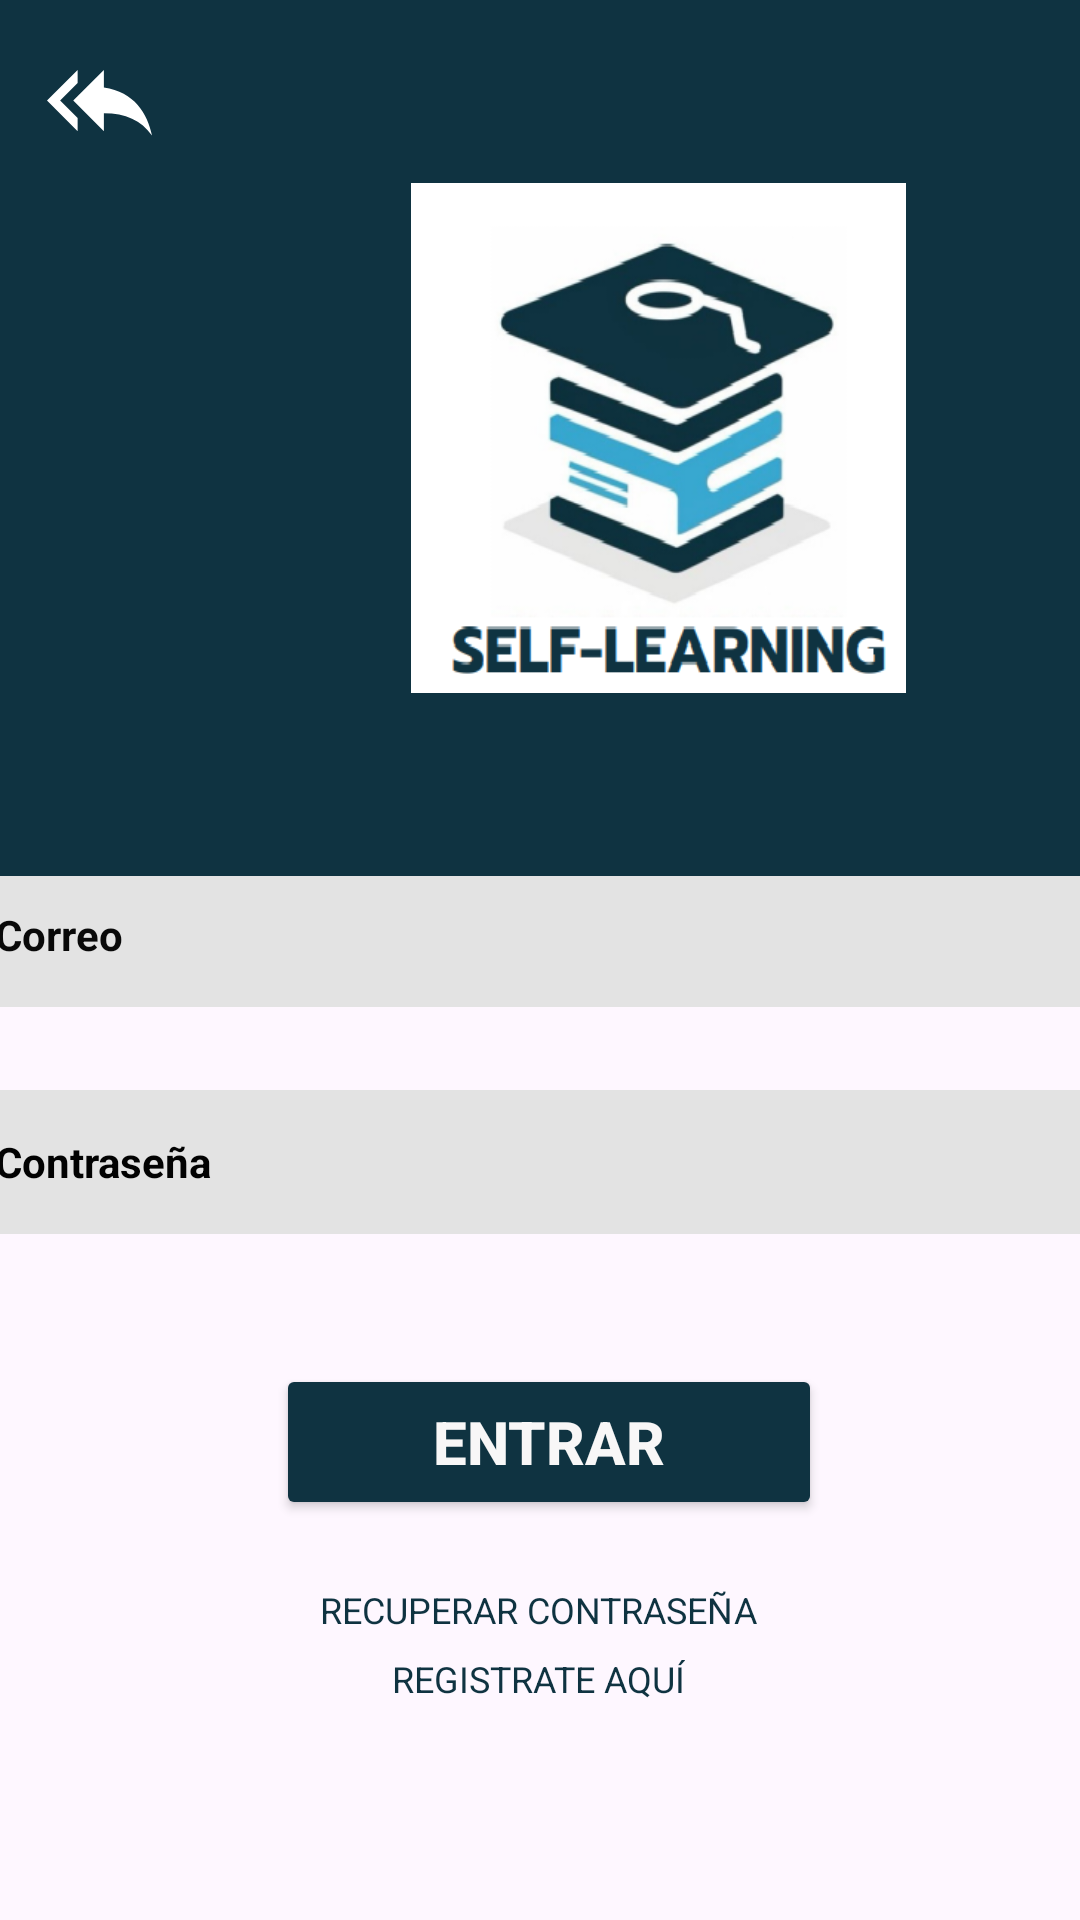

Named icons in this screenshot (1080w x 1920h) and their bounding boxes, (x1=x1, y1=y1, x2=x2, y2=y2):
backimage: (x1=47, y1=70, x2=152, y2=135)
